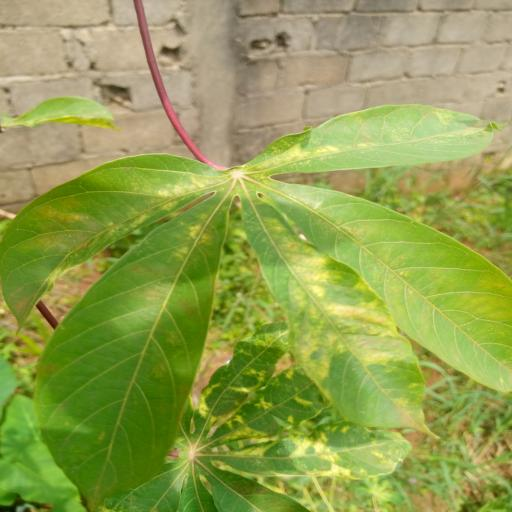Cassava_Mosaic: (0, 104, 512, 512), (48, 339, 415, 512)
